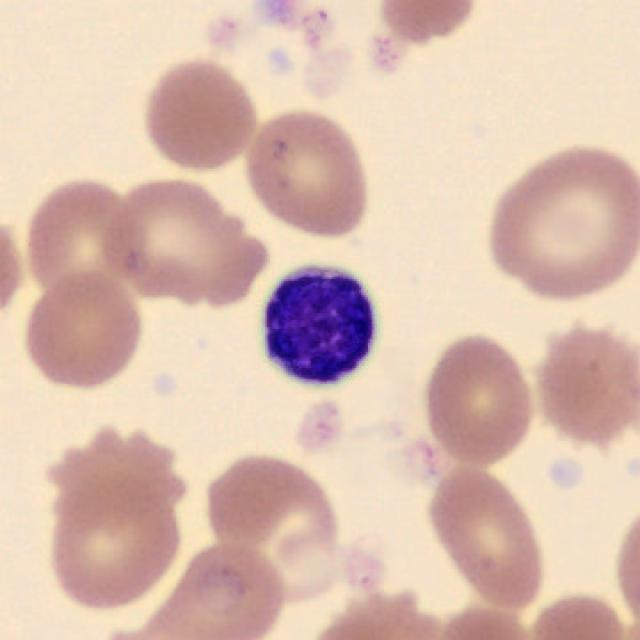Linfocito: (263, 268, 373, 388)
